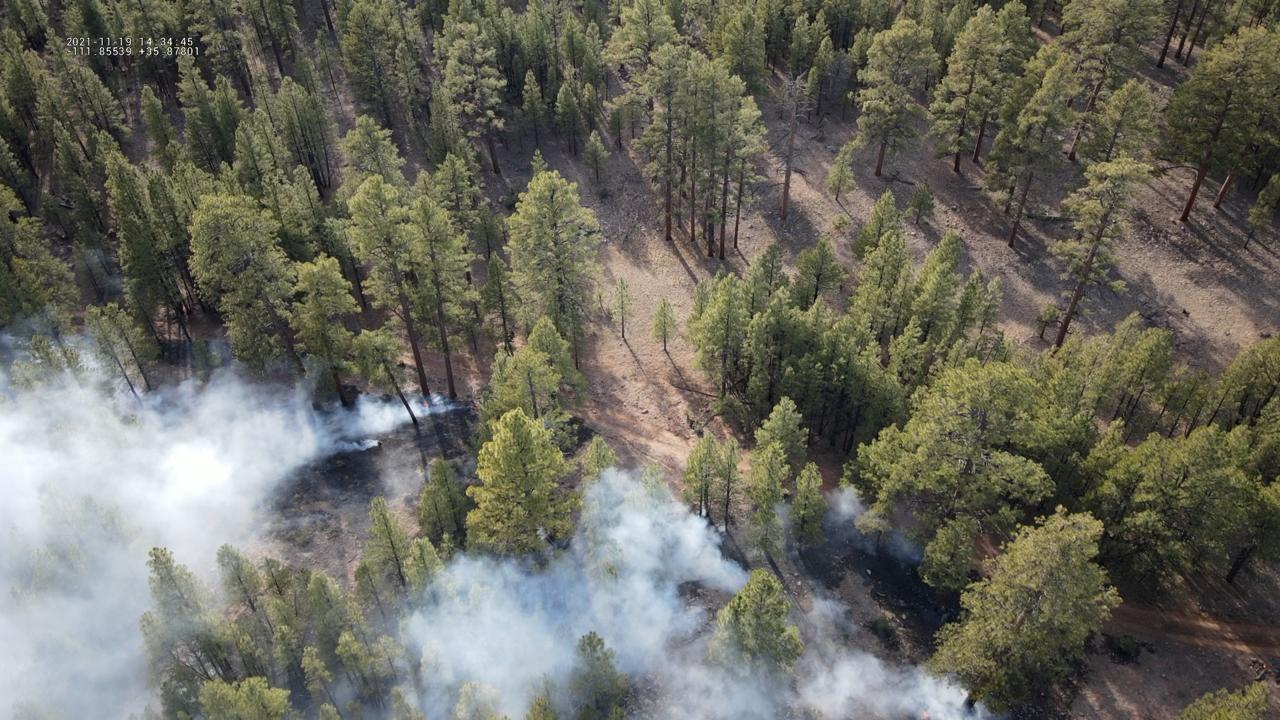smoke: (319, 466, 1000, 720), (0, 351, 465, 720), (822, 485, 924, 564), (773, 502, 801, 546)
